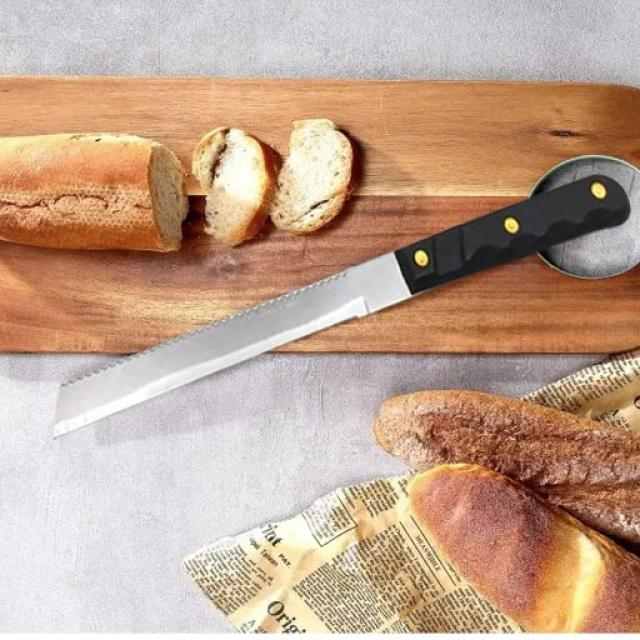Knife: (55, 174, 629, 436)
